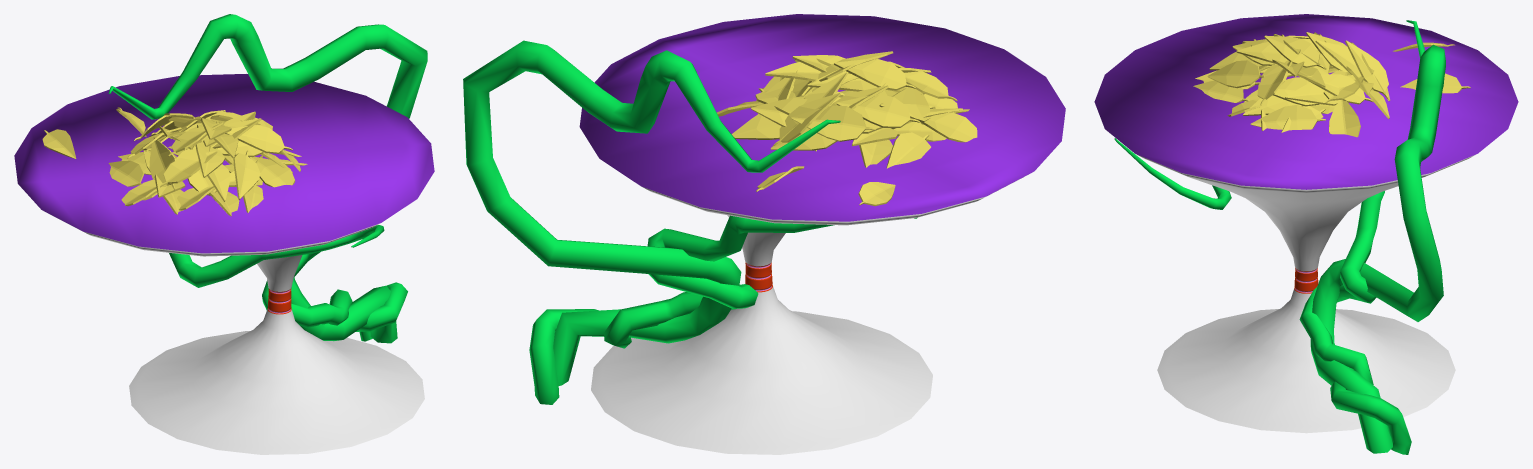
File: MesaChOrigen.fbx
3 views of the same model, side by side, from view 1: azimuth 30°, elevation 25°; view 2: azimuth 150°, elevation 25°; view 3: azimuth 270°, elevation 25° (orthographic). The views are drawn at different scales.
Parts seen in each view (by area): view 1: MesaChOrigen; view 2: MesaChOrigen; view 3: MesaChOrigen.
Part boxes in pixels (x1=…): MesaChOrigen: x1=14, y1=14, x2=434, y2=454; MesaChOrigen: x1=463, y1=14, x2=1065, y2=454; MesaChOrigen: x1=1094, y1=14, x2=1518, y2=454.
Bounding box in the file's own units: 163 × 122 × 136.
